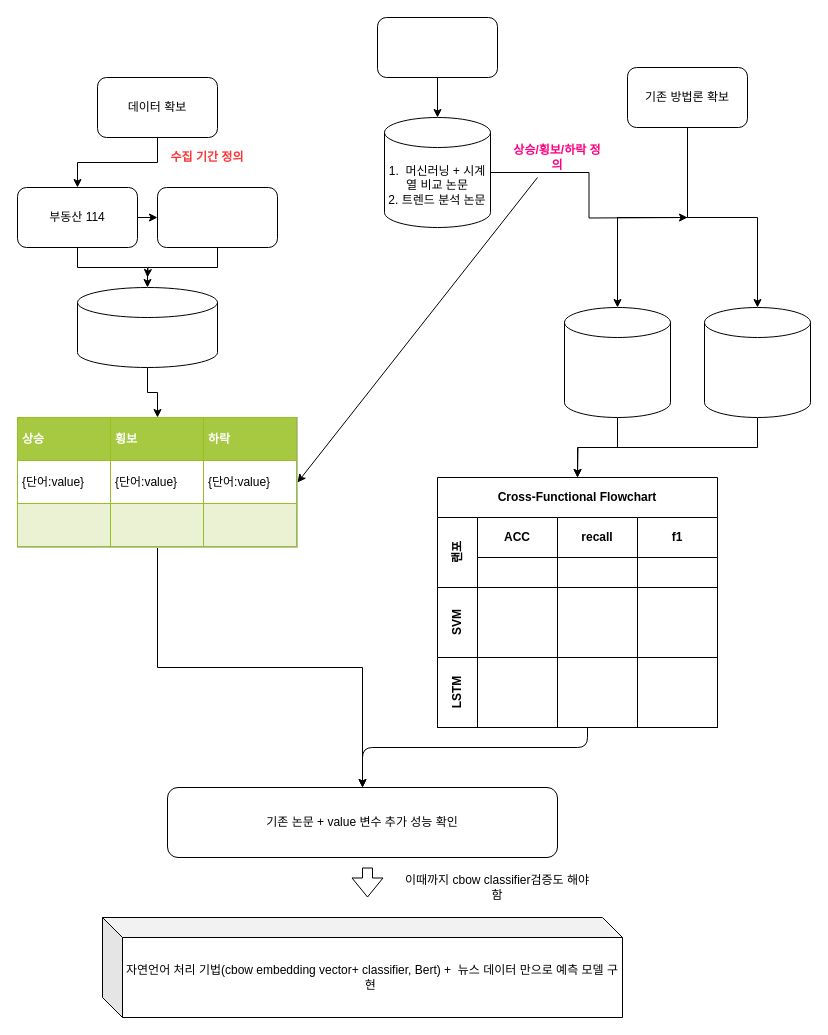
Image size: 828x1035. Some labels were removed from this diagram. Here are the shapes that lost their labels. From the top down, the centre of each, then its label:
point (437, 47): 기존 논문 정리
point (217, 217): 네이버 부동산
point (147, 327): 뉴스 데이터 db
point (617, 362): <머신러닝 기법> <자연언어 처리기법>
point (757, 362): 머신러닝 기법에 필요한 거시경제 변수 데이터
